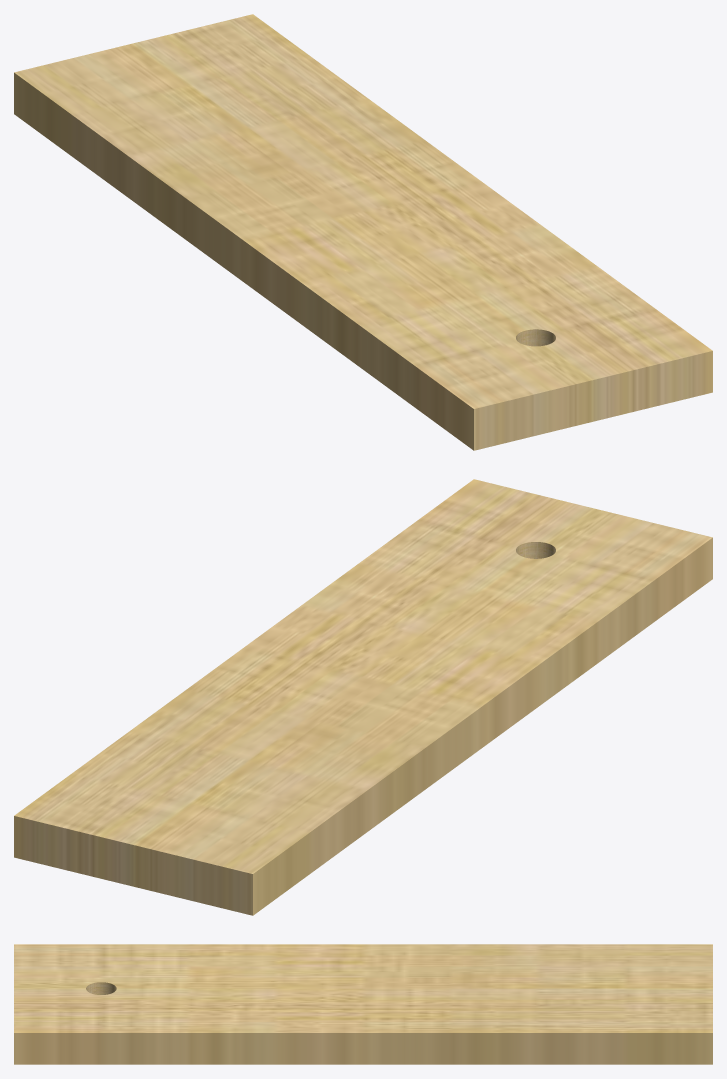
File: Hole1Revised.obj
3 views of the same model, one above another, from view 1: azimuth 30°, elevation 25°; view 2: azimuth 150°, elevation 25°; view 3: azimuth 270°, elevation 25° (orthographic). The views are drawn at different scales.
Visible parts, largest first — view 1: Object.1; view 2: Object.1; view 3: Object.1.
Part boxes in pixels (x1,y1,x2,y2): Object.1: [14, 14, 712, 450]; Object.1: [14, 479, 712, 915]; Object.1: [14, 944, 712, 1064].
Size of the model in its own units: 12 by 2 by 40.
